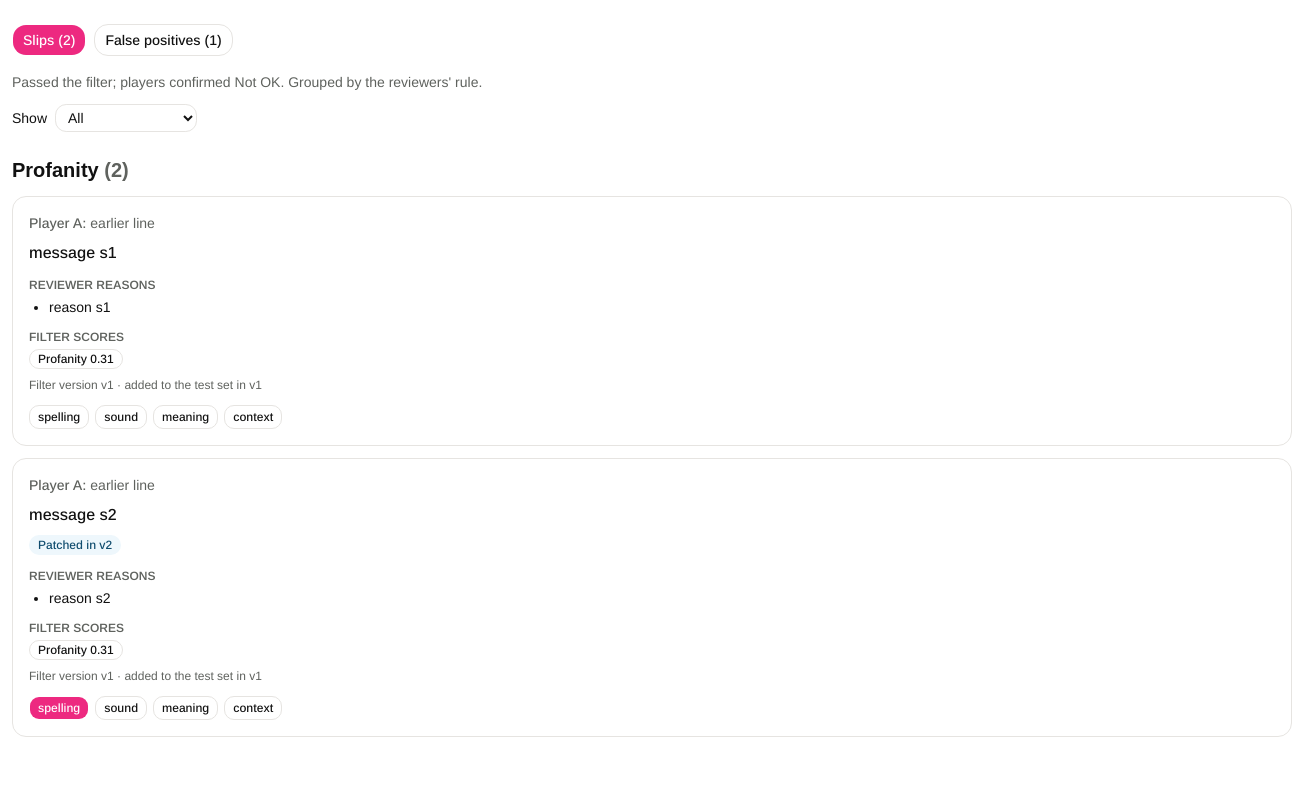
it: filters by tag and untagged
Select "Untagged" in the dropdown: (126, 118) [55,104,197,132]
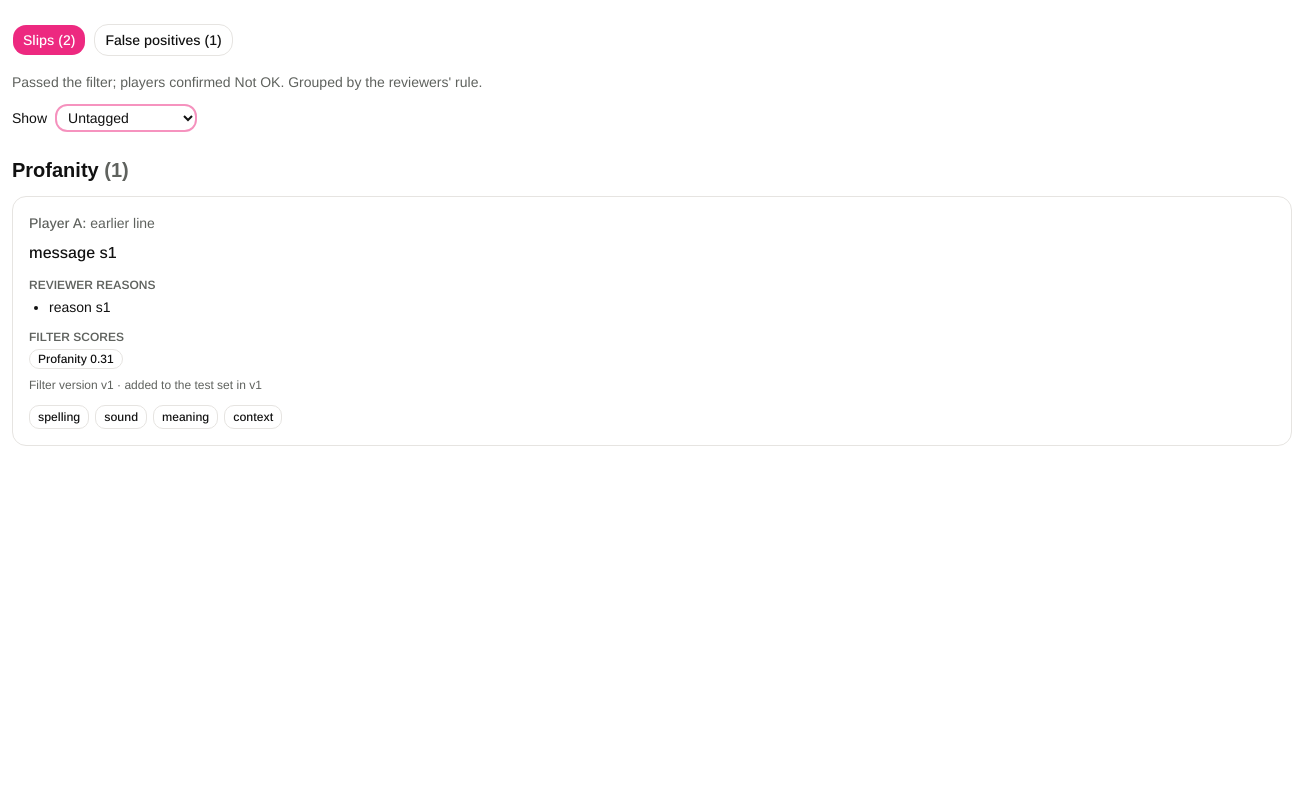
Select "Tagged spelling" in the dropdown: (126, 118) [55,104,197,132]
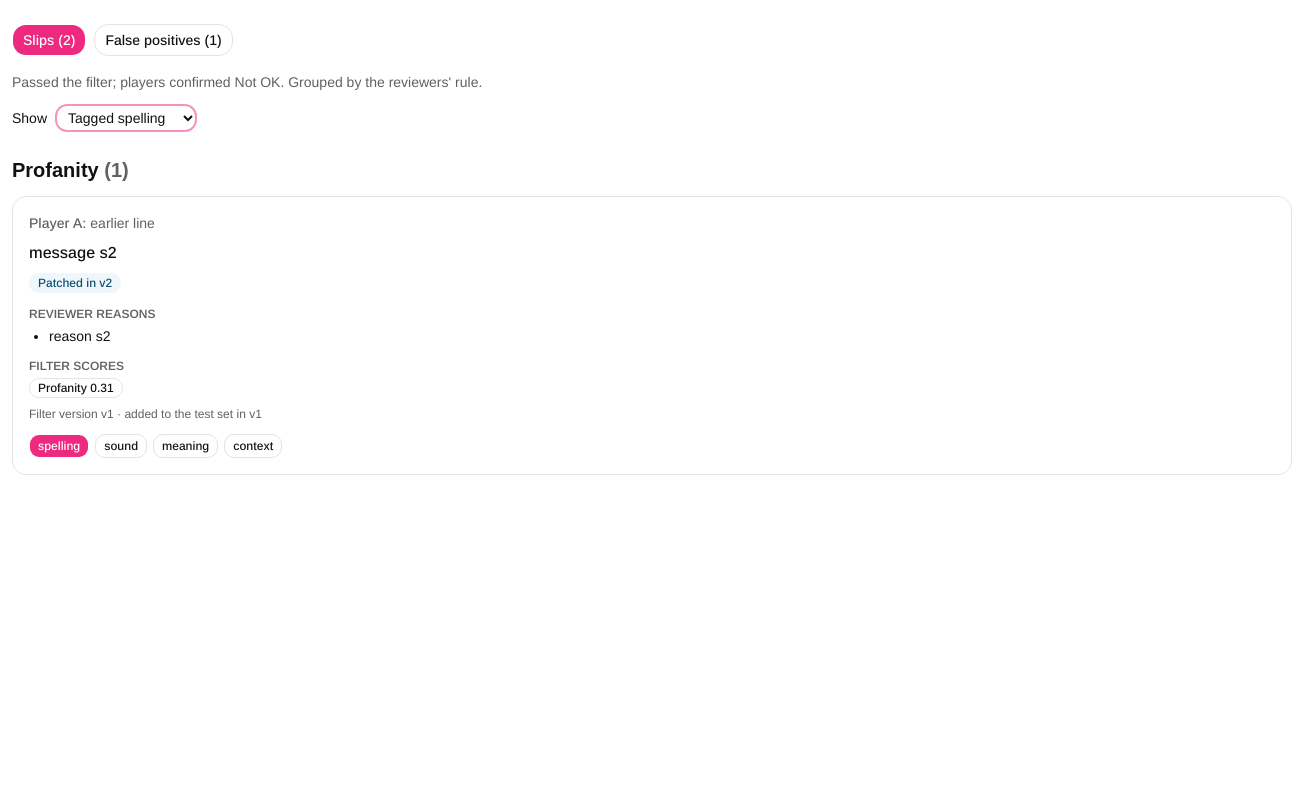
Select "Tagged sound" in the dropdown: (126, 118) [55,104,197,132]
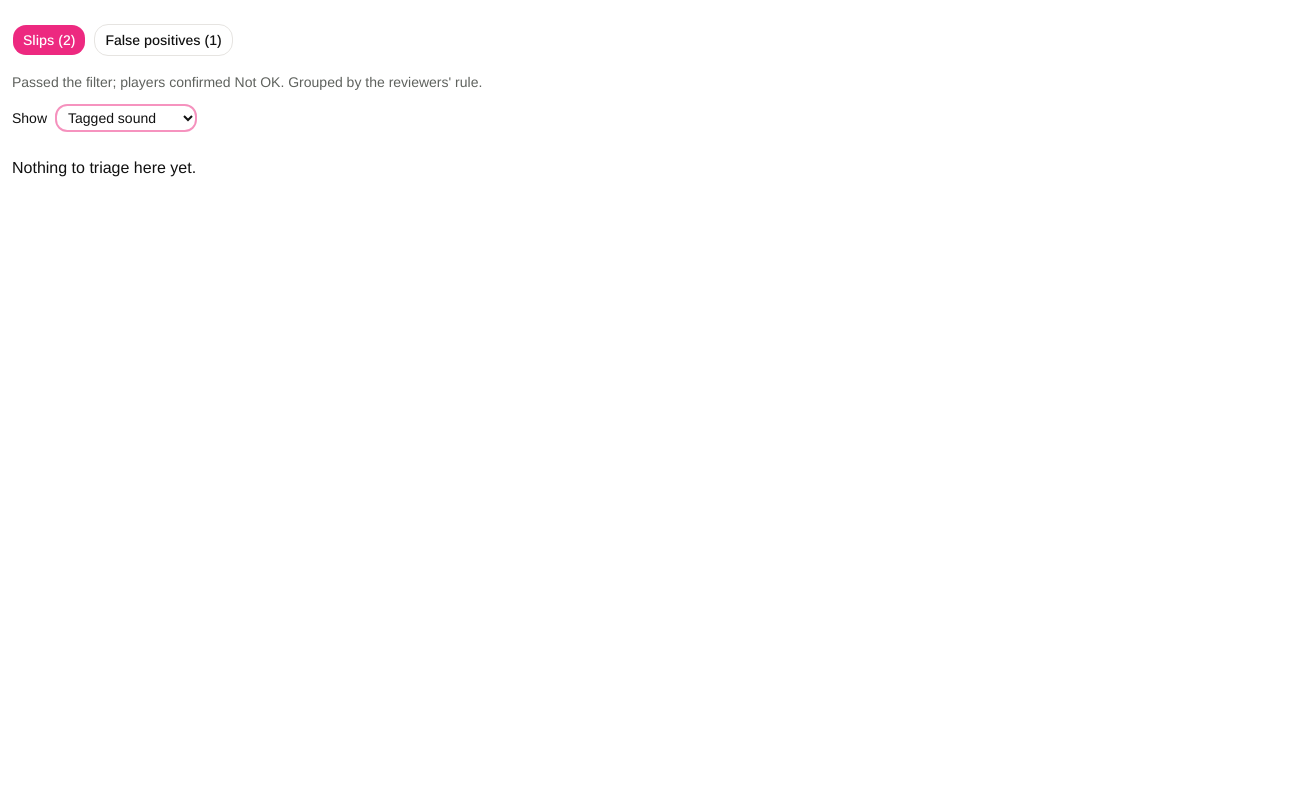
Expected: the text "Nothing to triage here yet." is shown, [12,159,196,176]
